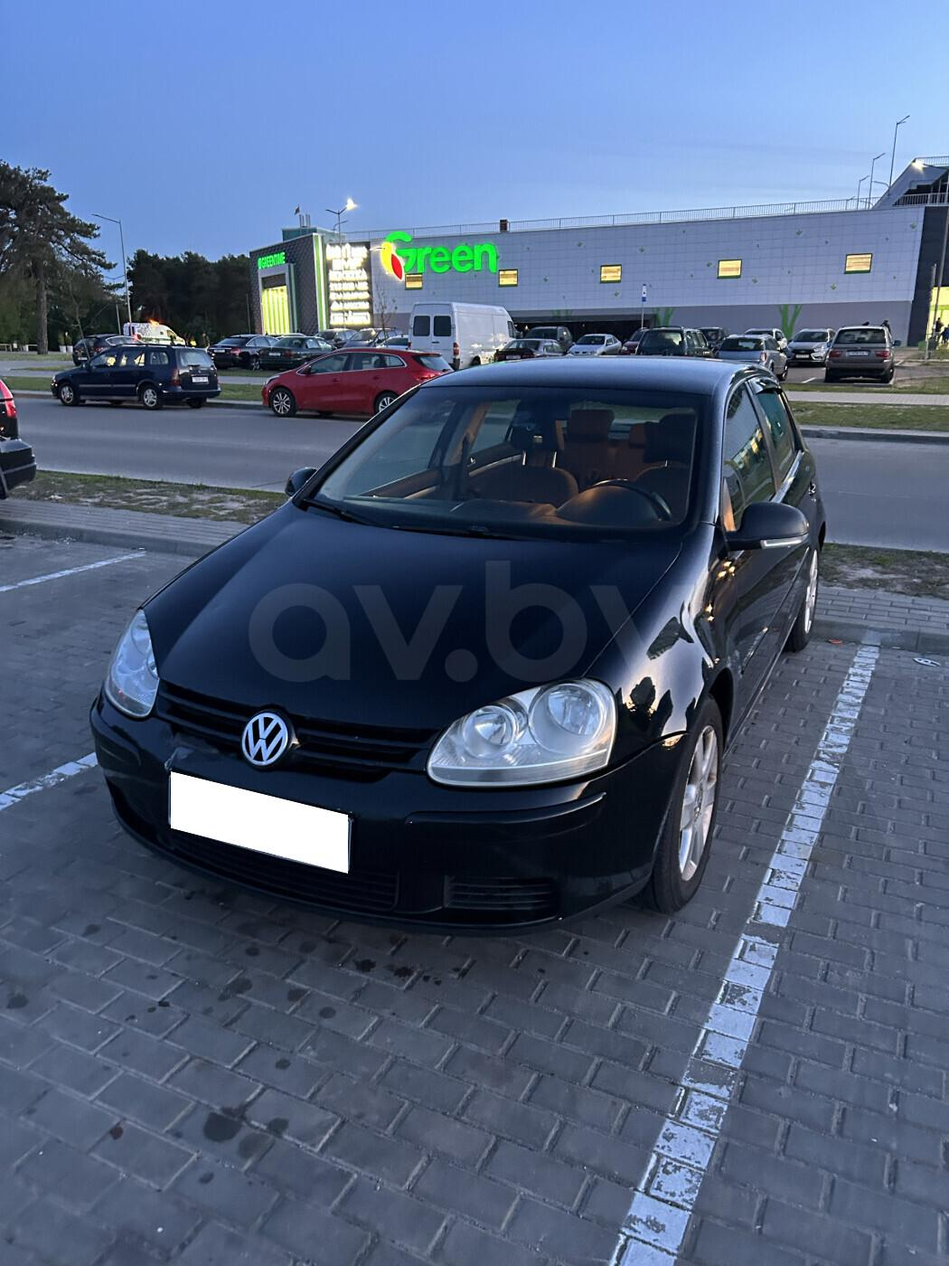Golf_2003-2009: (99, 344, 831, 919)
